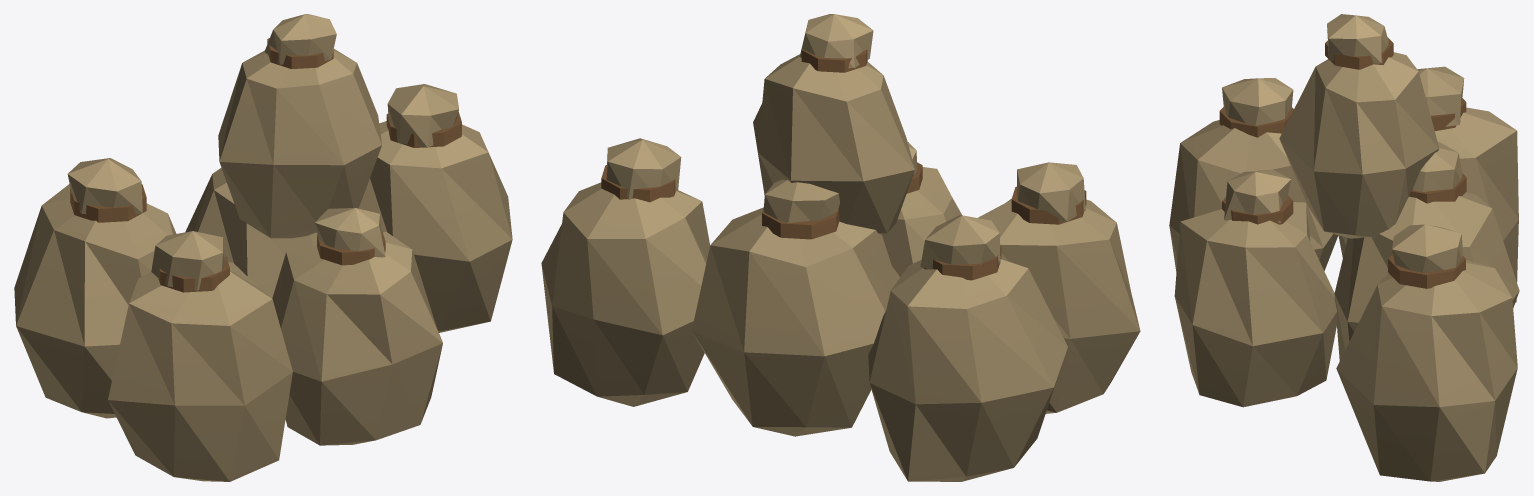
The model's file is town_sacks.glb.
3 views of the same model, side by side, from view 1: azimuth 30°, elevation 25°; view 2: azimuth 150°, elevation 25°; view 3: azimuth 270°, elevation 25° (orthographic). The views are drawn at different scales.
Visible parts, largest first — view 1: town_sacks; view 2: town_sacks; view 3: town_sacks.
Part boxes in pixels (<box>): town_sacks: <box>14,14,512,481</box>; town_sacks: <box>541,14,1140,481</box>; town_sacks: <box>1169,14,1519,481</box>.
Size of the model in its own units: 1.35 by 1.02 by 0.8274.
